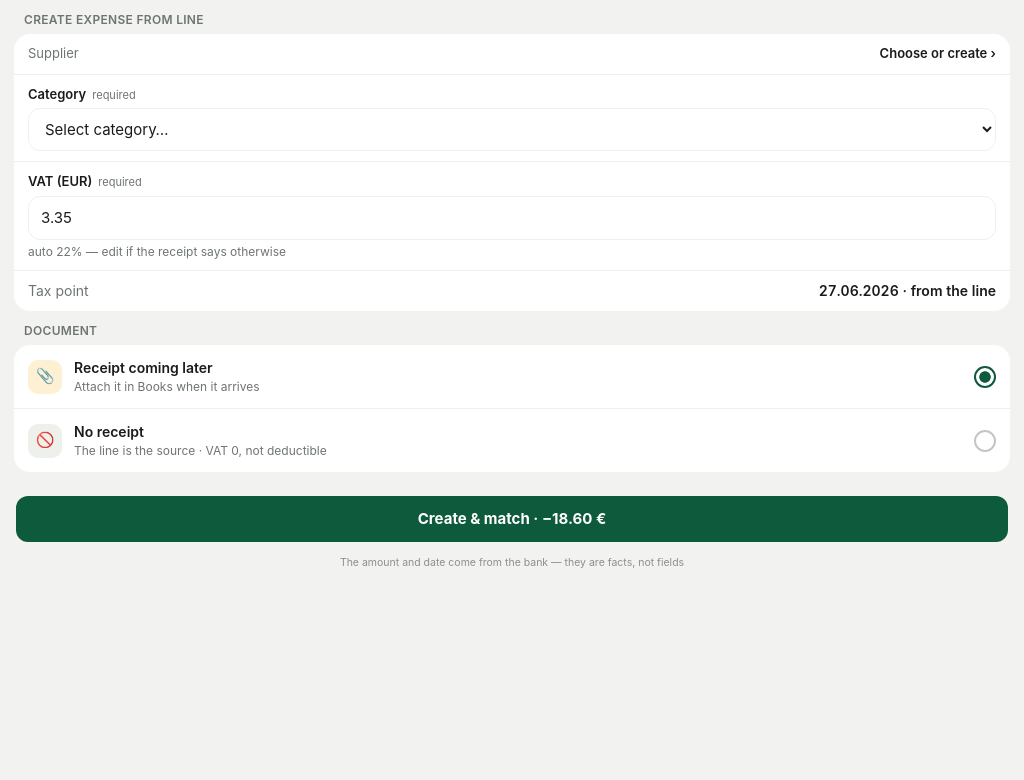
TxCreateExpense › a failed post after a confirmed create refreshes the statement (Q10, form rule)
This screenshot has width=1024, height=780.
Select "Meals" in the dropdown labelled "Category" at x=512, y=130, box [28, 108, 996, 151]
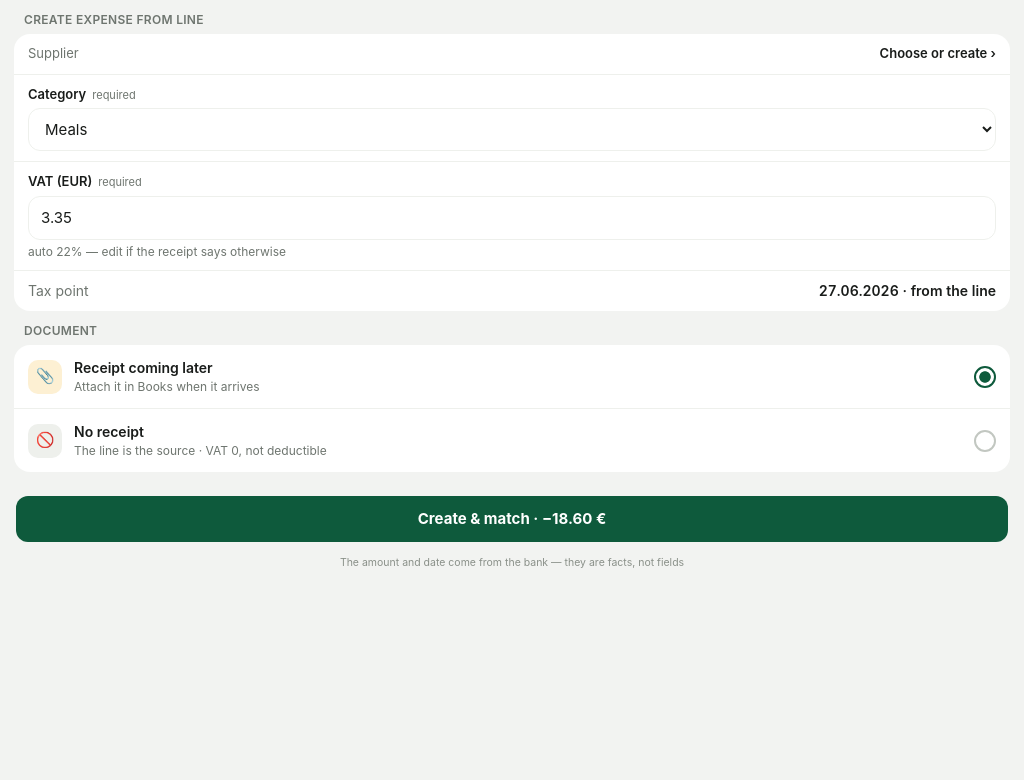
Click the button "Create & match · −18.60 €" at x=512, y=519, box [16, 496, 1008, 542]
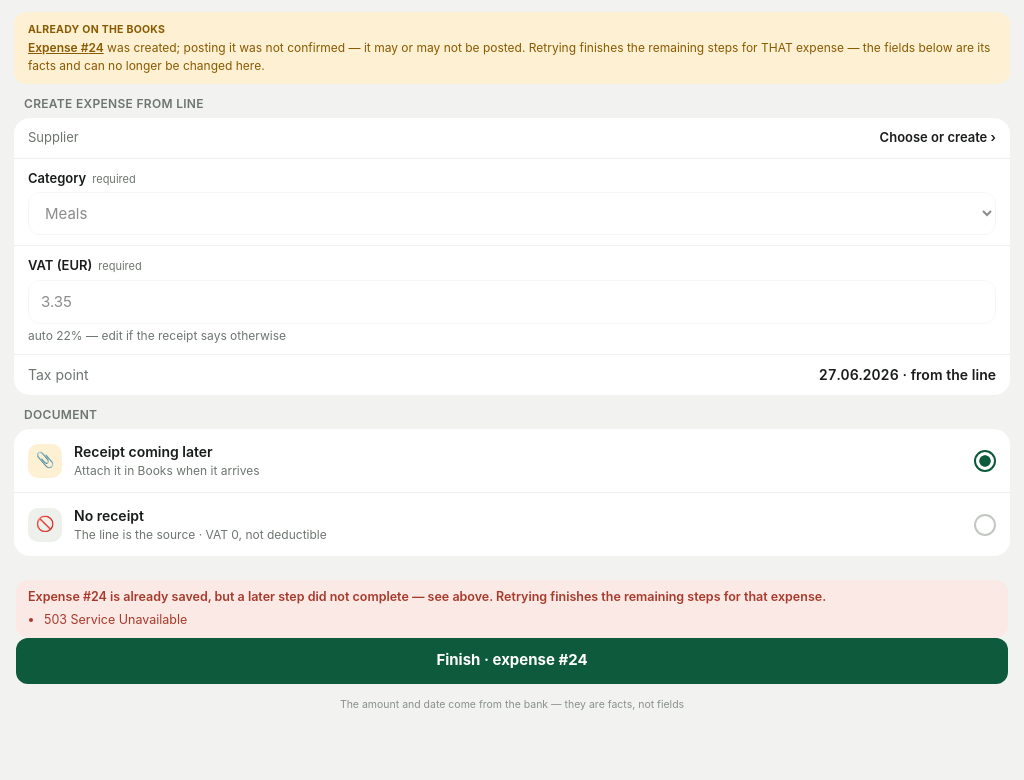
expect the button "Finish · expense #24" is shown: met, box [16, 638, 1008, 684]
